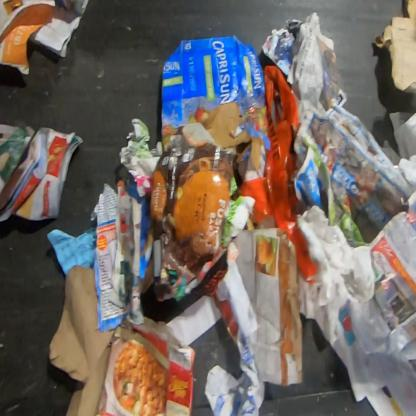cardboard: (140, 123, 236, 302), (160, 35, 270, 183), (48, 264, 116, 415), (99, 316, 196, 415), (373, 0, 415, 94)
soft_plastic: (240, 64, 317, 284)
